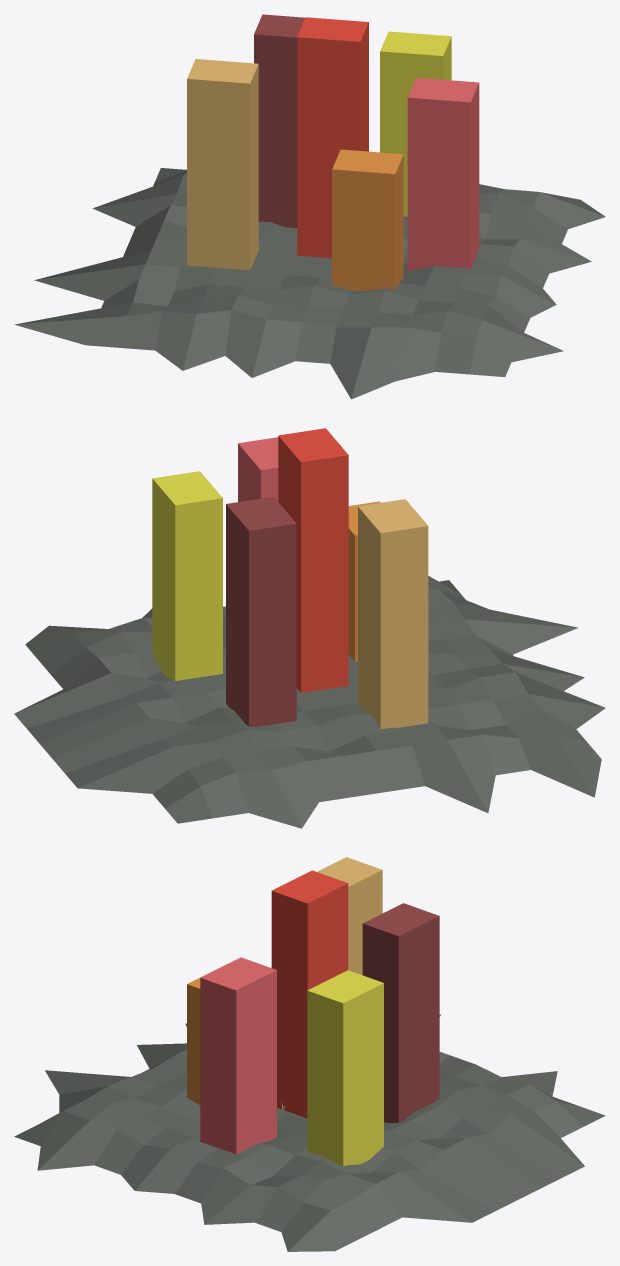
Rendered from building3.glb.
3 renders of one model, top to bottom at view 1: azimuth 30°, elevation 25°; view 2: azimuth 150°, elevation 25°; view 3: azimuth 270°, elevation 25°, orthographic. The views are drawn at different scales.
Parts seen in each view (by area): view 1: Plane.002, Cube.004, Cube.002, Cube, Cube.005, Cube.001, Cube.003; view 2: Plane.002, Cube.001, Cube.004, Cube, Cube.003, Cube.002, Cube.005; view 3: Plane.002, Cube.002, Cube.003, Cube.001, Cube, Cube.004, Cube.005.
Part boxes in pixels (x1,y1,x2,y2): Plane.002: [14, 168, 605, 399]; Cube.004: [187, 59, 258, 270]; Cube.002: [407, 77, 479, 271]; Cube: [297, 17, 368, 258]; Cube.005: [332, 149, 403, 291]; Cube.001: [254, 14, 305, 227]; Cube.003: [380, 31, 451, 216]; Plane.002: [14, 576, 605, 828]; Cube.001: [226, 496, 296, 726]; Cube.004: [358, 499, 428, 729]; Cube: [278, 428, 348, 692]; Cube.003: [152, 471, 222, 680]; Cube.002: [238, 437, 278, 501]; Cube.005: [348, 501, 380, 661]; Plane.002: [14, 1014, 605, 1251]; Cube.002: [200, 957, 276, 1154]; Cube.003: [307, 970, 383, 1166]; Cube.001: [362, 903, 439, 1122]; Cube: [271, 870, 348, 1118]; Cube.004: [317, 857, 382, 975]; Cube.005: [187, 977, 200, 1104].
Bounding box in the file's own units: 189 × 89.55 × 177.
